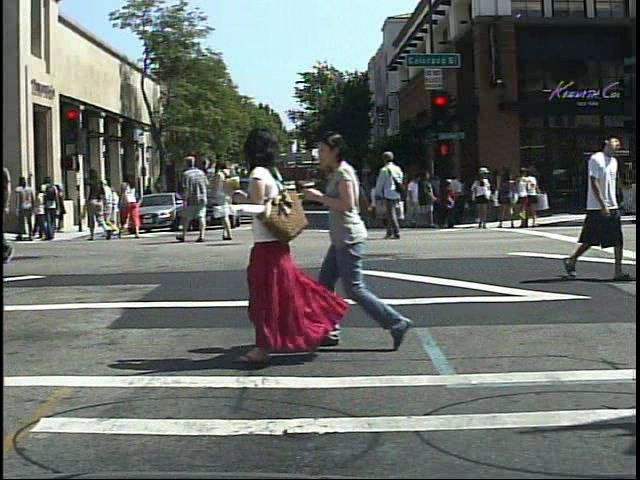person: (223, 126, 334, 369), (313, 121, 410, 354), (562, 123, 637, 285), (174, 152, 212, 245), (378, 149, 410, 240), (213, 155, 241, 245), (83, 165, 113, 243), (470, 164, 501, 232), (116, 168, 143, 242), (39, 175, 63, 242), (472, 167, 496, 233), (14, 174, 37, 242)
